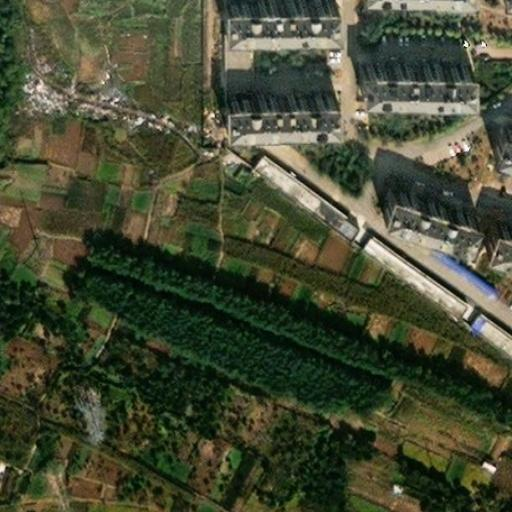building: (249, 147, 354, 230), (352, 226, 454, 303), (369, 177, 469, 236), (352, 51, 463, 83), (215, 78, 329, 109), (462, 304, 512, 351), (456, 262, 501, 300), (214, 20, 240, 79), (475, 212, 512, 252), (484, 114, 512, 151)
